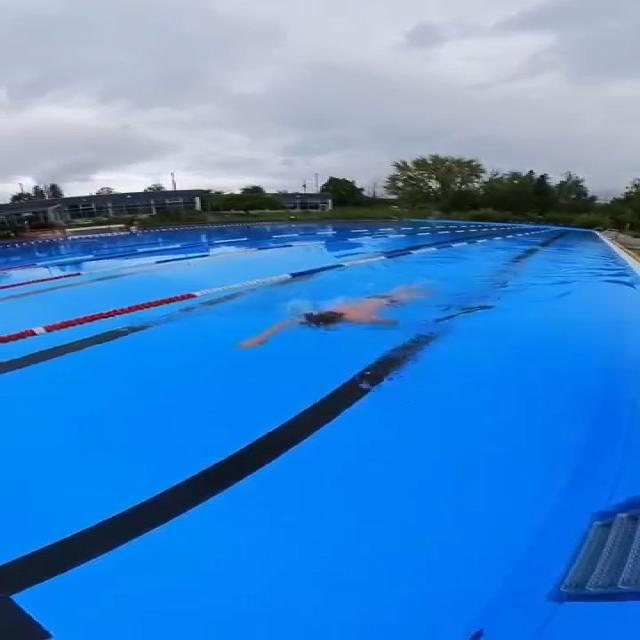Swimming: (232, 277, 442, 364)
